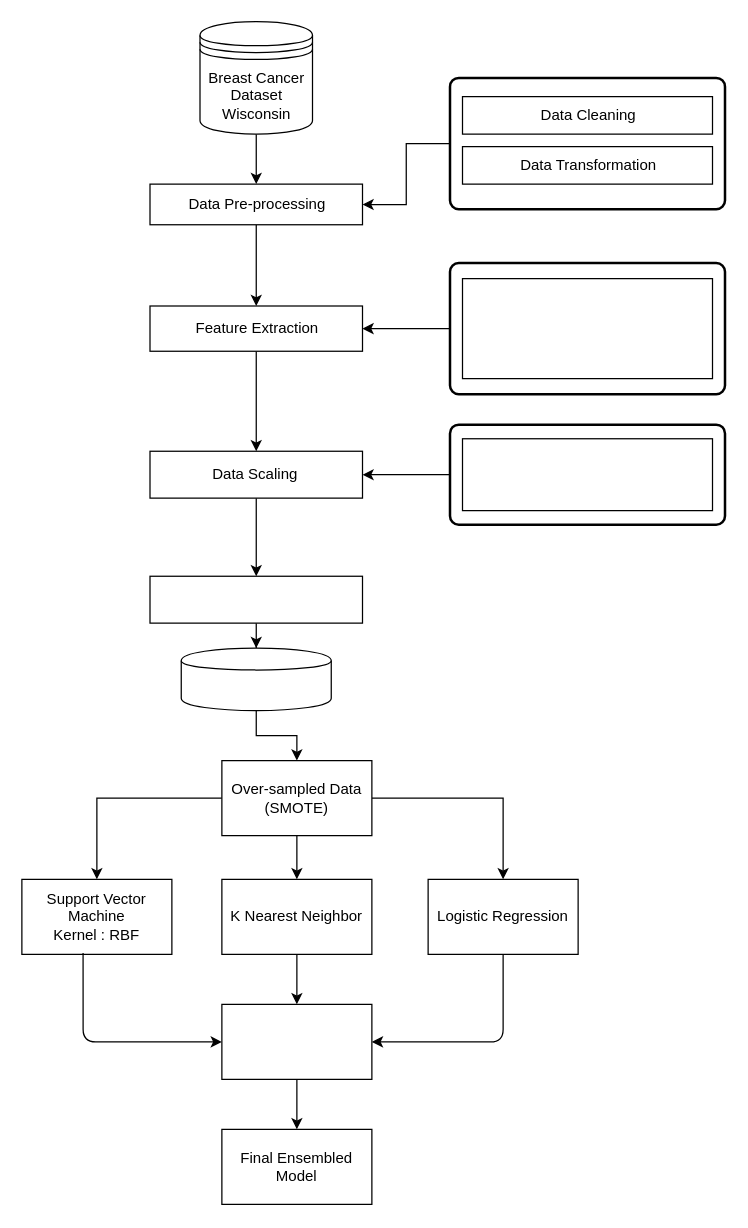
The diagram is 748 pixels wide and 1228 high, and some of its shapes have lost their labels. The shapes that lost their labels are listed below. From the top down, each one's centre as x and y in pixels, then its label:
(x=586, y=328): Select Most Important Features using Kendall's Method
(x=586, y=474): Robust Scaling
(x=255, y=599): Splitting Dataset (80: 20)
(x=255, y=679): Training Data
(x=296, y=1041): XGBoost
